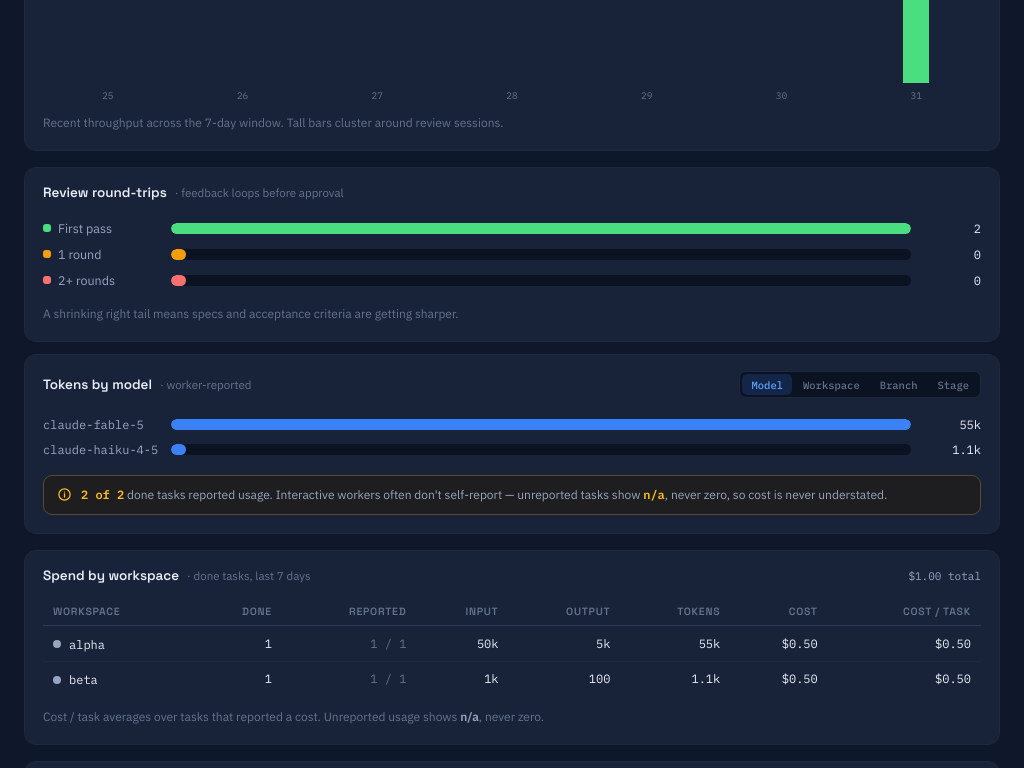
Scenario: AnalyticsView › toggles the tokens panel between model and workspace groupings
(page scrolled)
Check: the heading "Tokens by model" is shown, box [43,376,152,392]
Check: the text "claude-fable-5" is shown, box [43,417,159,432]
switch to workspace grouping — title updates, model bars give way to workspace bars
Click the button "Workspace" at (831,384), box [794,374,869,395]
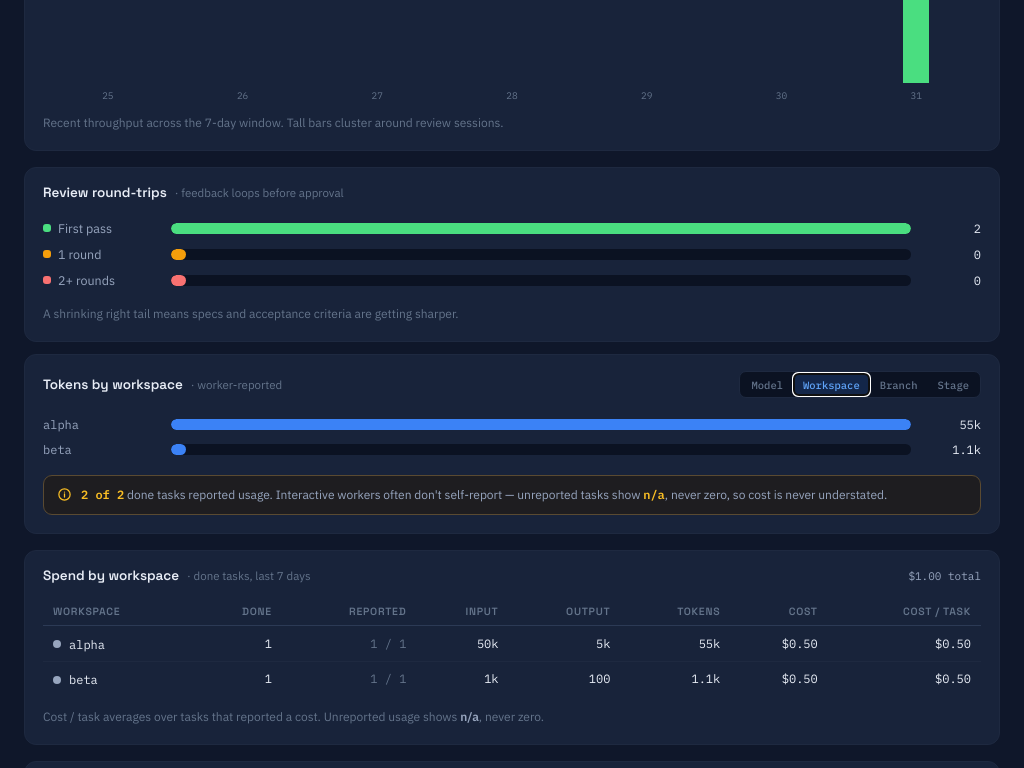
Check: the text "2 of 2" is shown, box [81,487,124,502]
Check: the heading "Tokens by workspace" is shown, box [43,376,183,392]
Check: the text "claude-fable-5" is gone
and back to model
Click the button "Model" at (767,384), box [742,374,792,395]
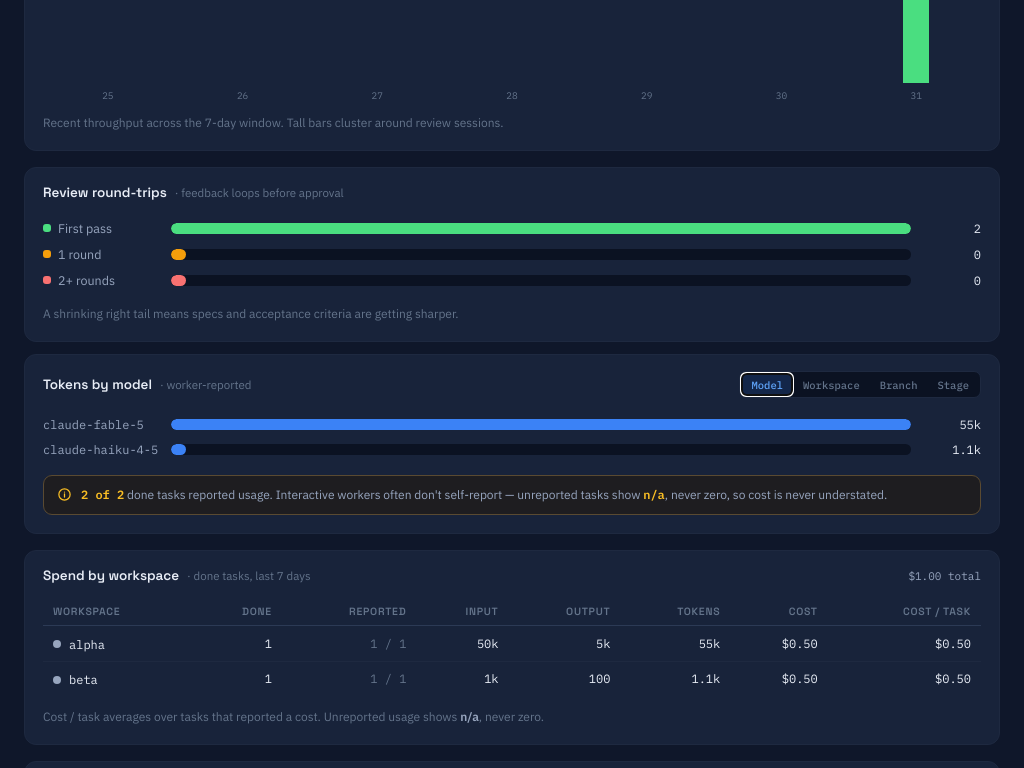
Check: the heading "Tokens by model" is shown, box [43,376,152,392]
Check: the text "claude-fable-5" is shown, box [43,417,159,432]
